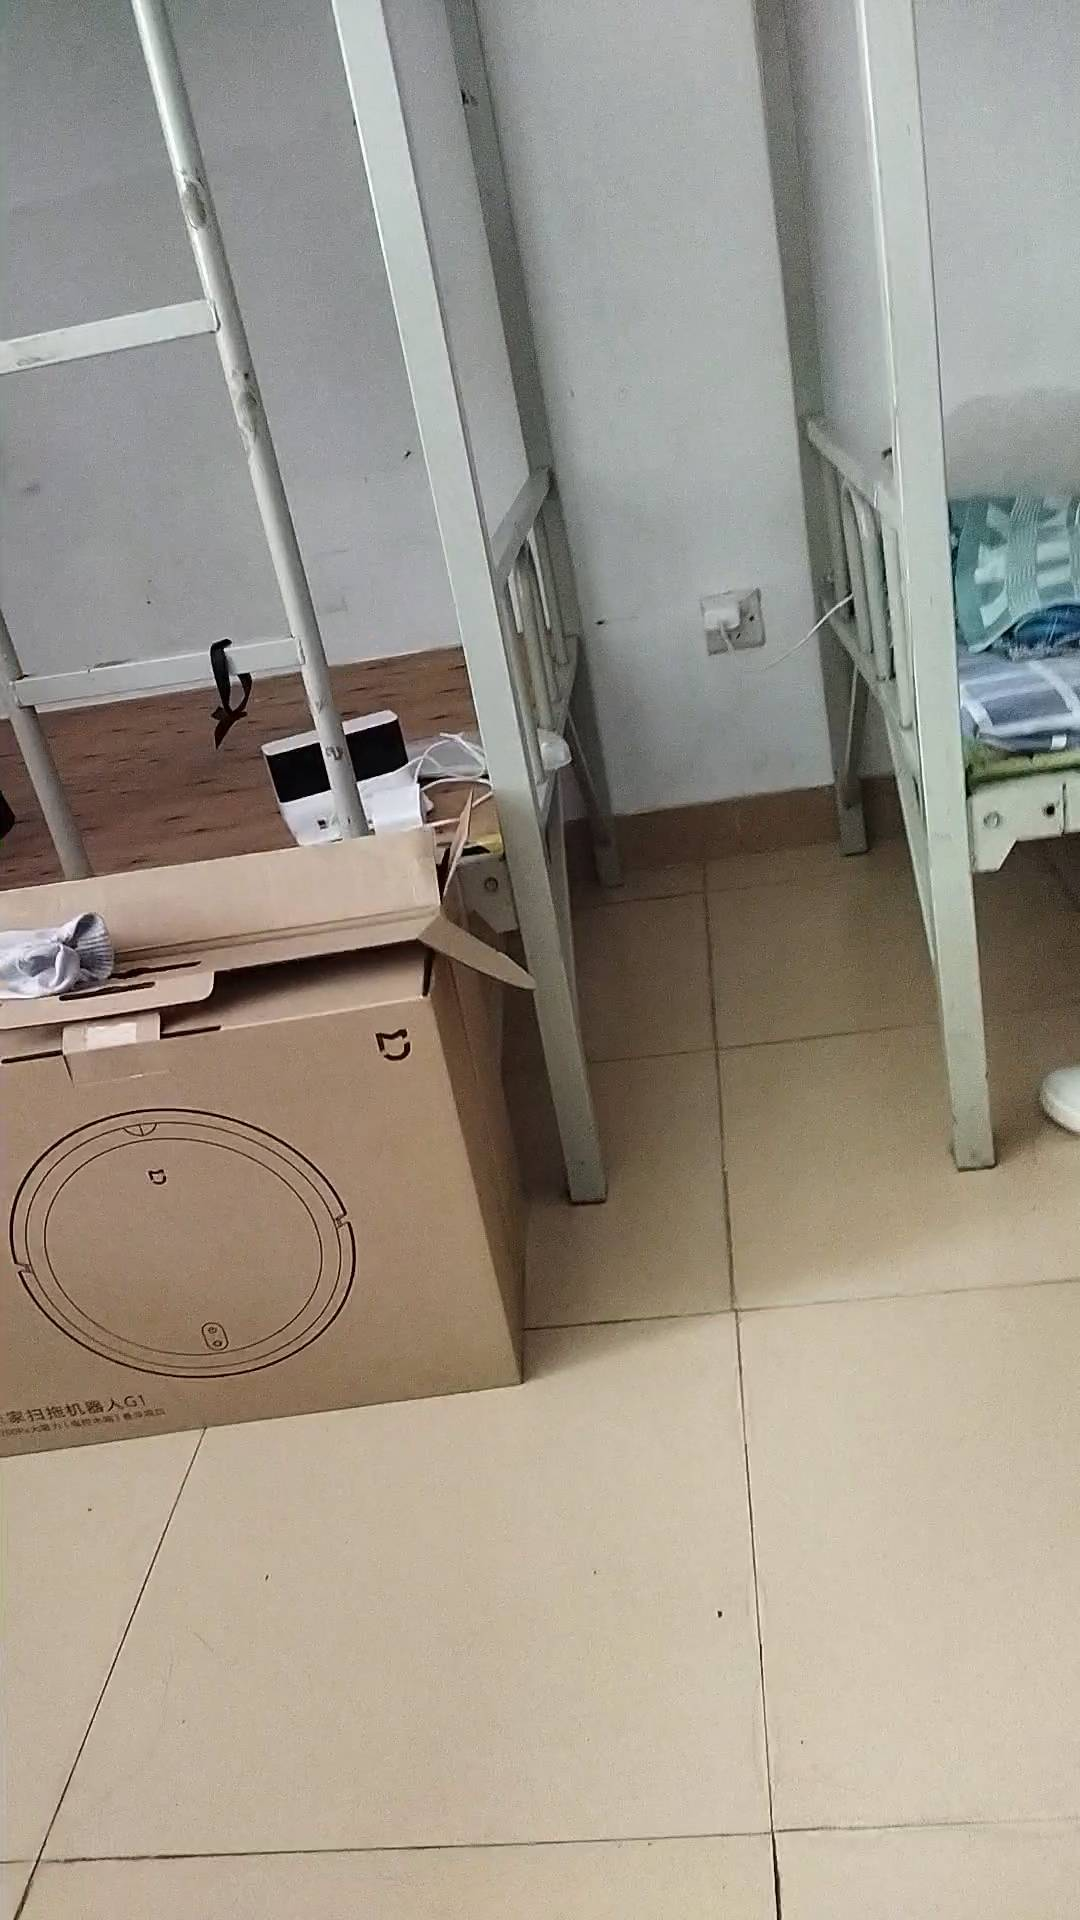recharge seat: (257, 705, 419, 845)
